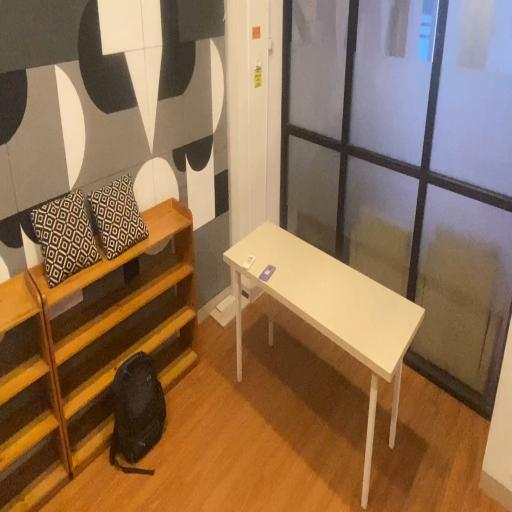bantal: (26, 186, 107, 292), (86, 170, 152, 263)
hp: (257, 259, 282, 286)
lemari: (25, 192, 202, 500), (0, 263, 72, 512)
meja: (218, 214, 430, 512)
remote AC: (239, 250, 257, 274)
tas ransel: (107, 346, 170, 486)
